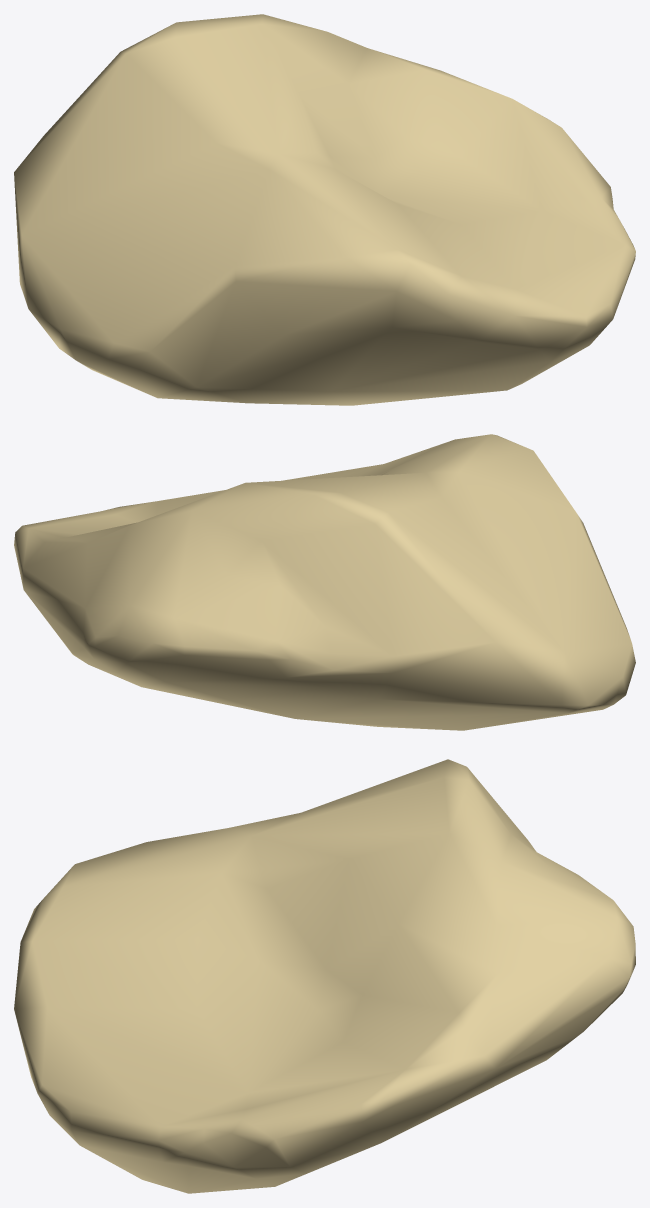
The picture shows the model from 3 angles, top to bottom: view 1: azimuth 30°, elevation 25°; view 2: azimuth 150°, elevation 25°; view 3: azimuth 270°, elevation 25°; orthographic projection. The views are drawn at different scales.
Parts seen in each view (by area): view 1: 左侧髌骨; view 2: 左侧髌骨; view 3: 左侧髌骨.
Boxes of the visible parts, left/top/right/bottom form: 左侧髌骨: left=14, top=14, right=635, bottom=405; 左侧髌骨: left=14, top=434, right=635, bottom=730; 左侧髌骨: left=14, top=759, right=635, bottom=1193.
Bounding box in the file's own units: 0.0636 × 0.0335 × 0.0603.
